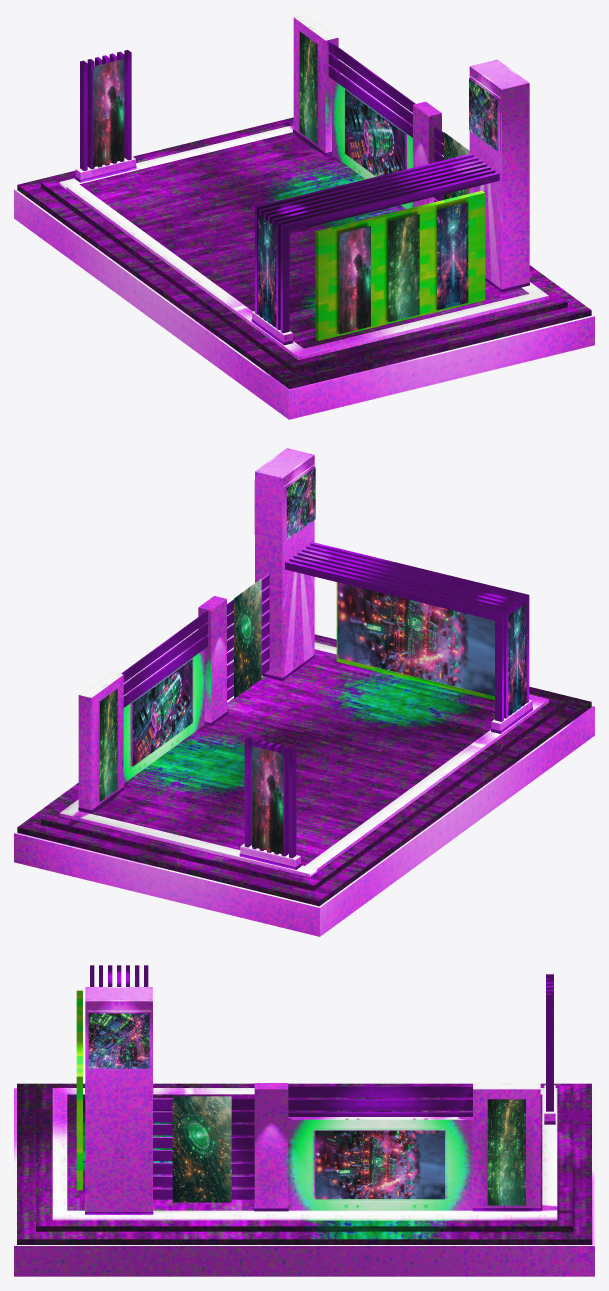
Rendered from booth11.glb.
3 renders of one model, top to bottom at view 1: azimuth 30°, elevation 25°; view 2: azimuth 150°, elevation 25°; view 3: azimuth 270°, elevation 25°, orthographic. The views are drawn at different scales.
Visible parts, largest first — view 1: generic_booth01_0, branding_2; view 2: generic_booth01_0, branding_2; view 3: generic_booth01_0, branding_2.
Boxes of the visible parts, x1,y1,x2,y2 form: generic_booth01_0: [14, 14, 594, 419]; branding_2: [93, 31, 497, 334]; generic_booth01_0: [14, 448, 594, 936]; branding_2: [99, 467, 526, 854]; generic_booth01_0: [14, 965, 594, 1276]; branding_2: [88, 1013, 525, 1205].
Size of the model in its own units: 11 by 8.43 by 17.13.
2 materials, 2 textured.
